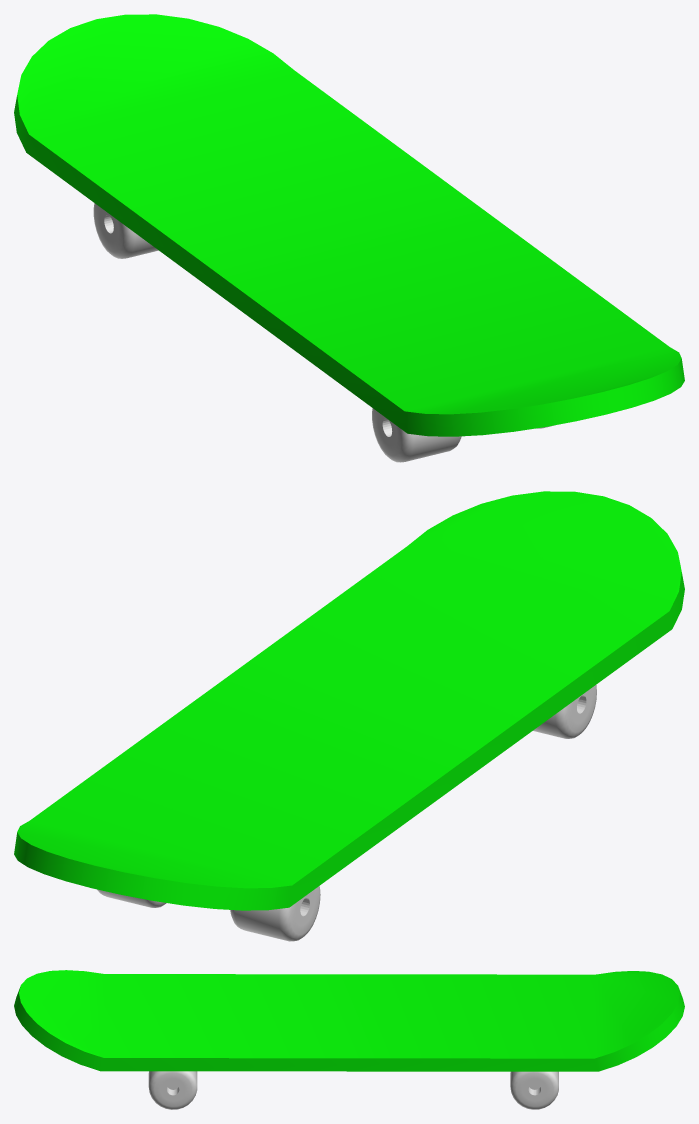
Rendered from SM_Skate.fbx.
The picture shows the model from 3 angles, top to bottom: view 1: azimuth 30°, elevation 25°; view 2: azimuth 150°, elevation 25°; view 3: azimuth 270°, elevation 25°; orthographic projection. The views are drawn at different scales.
Visible parts, largest first — view 1: patineta_tabla02, Patineta_Rueda10, Patineta_Rueda12; view 2: patineta_tabla02, Patineta_Rueda12, Patineta_Rueda10; view 3: patineta_tabla02, Patineta_Rueda09, Patineta_Rueda11.
Part boxes in pixels (x1,y1,x2,y2): patineta_tabla02: [14, 14, 684, 436]; Patineta_Rueda10: [372, 408, 461, 462]; Patineta_Rueda12: [93, 203, 158, 258]; patineta_tabla02: [14, 491, 684, 910]; Patineta_Rueda12: [230, 886, 320, 941]; Patineta_Rueda10: [533, 685, 596, 738]; patineta_tabla02: [14, 970, 684, 1071]; Patineta_Rueda09: [148, 1071, 197, 1109]; Patineta_Rueda11: [510, 1071, 558, 1109].
Size of the model in its own units: 31.56 by 106 by 15.02.
